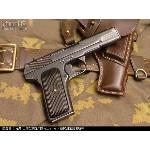Pistol: (21, 26, 121, 124)
